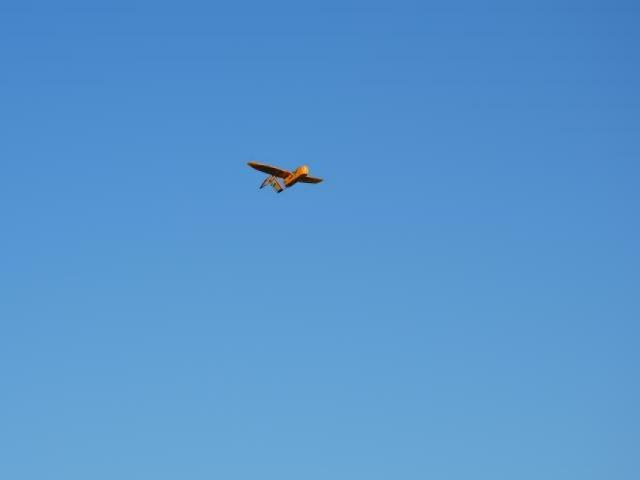iha: (242, 158, 327, 197)
